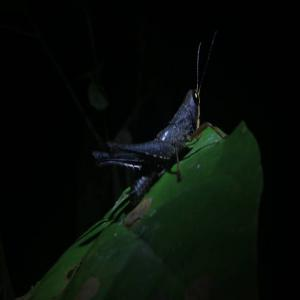locust: (96, 65, 203, 219)
